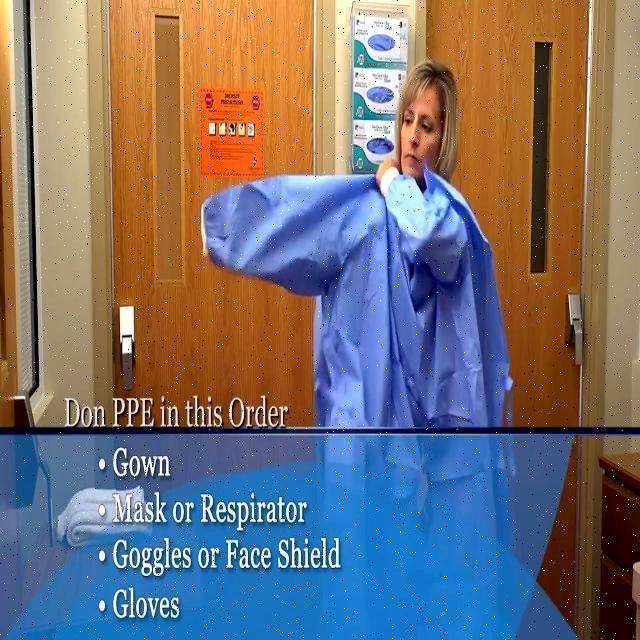no_hairnet: (400, 134, 430, 168)
